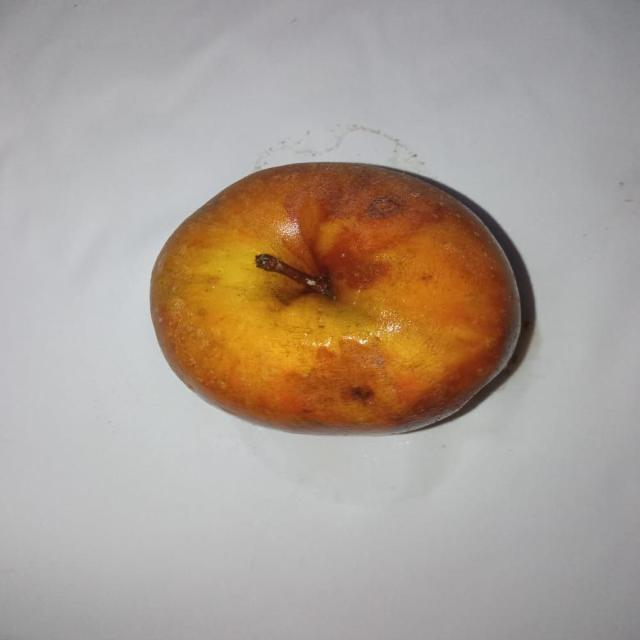rotten_apple: (150, 160, 524, 435)
